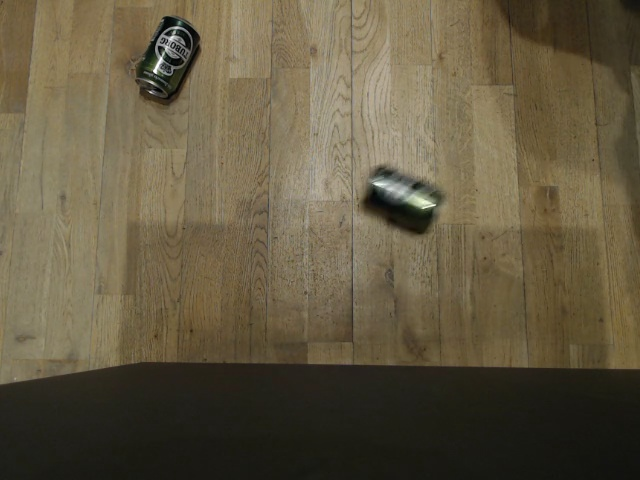beer: (132, 13, 202, 100), (360, 163, 443, 235)
